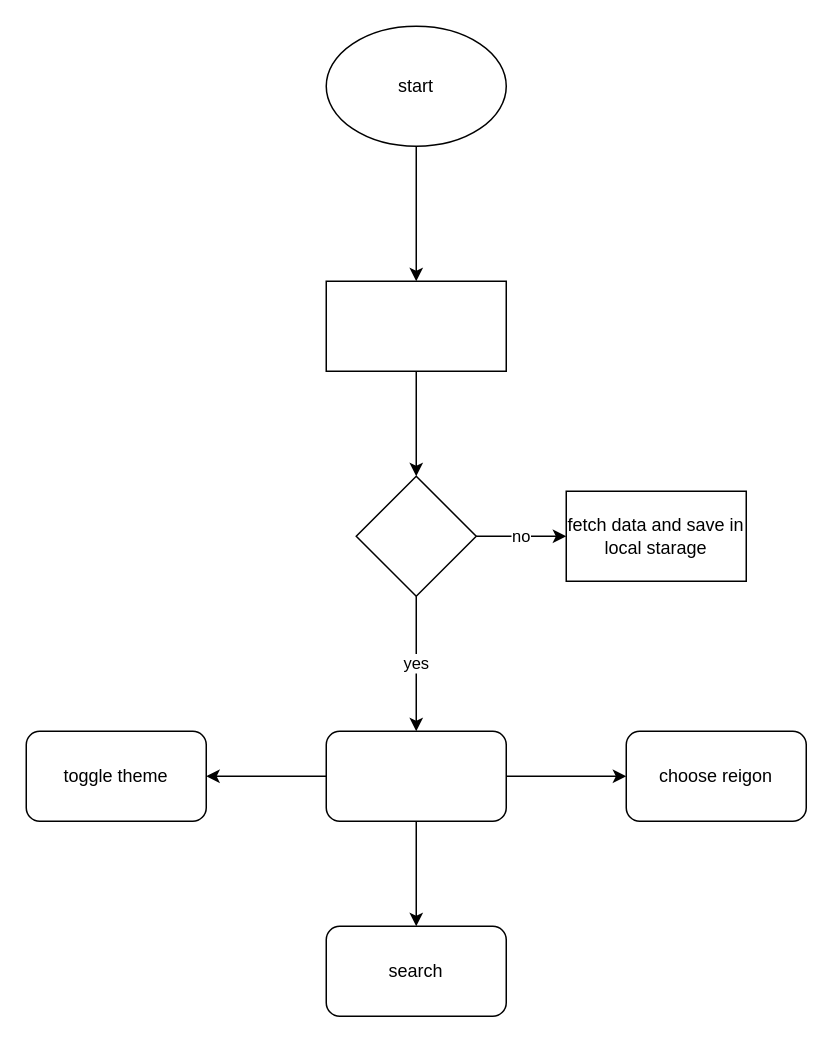
This 833x1043 diagram has some shape labels left out. Each missing label, with the box of its shape:
exist in local storage: (355, 475, 476, 596)
fetch data: (325, 280, 506, 371)
render country list: (325, 730, 506, 821)
